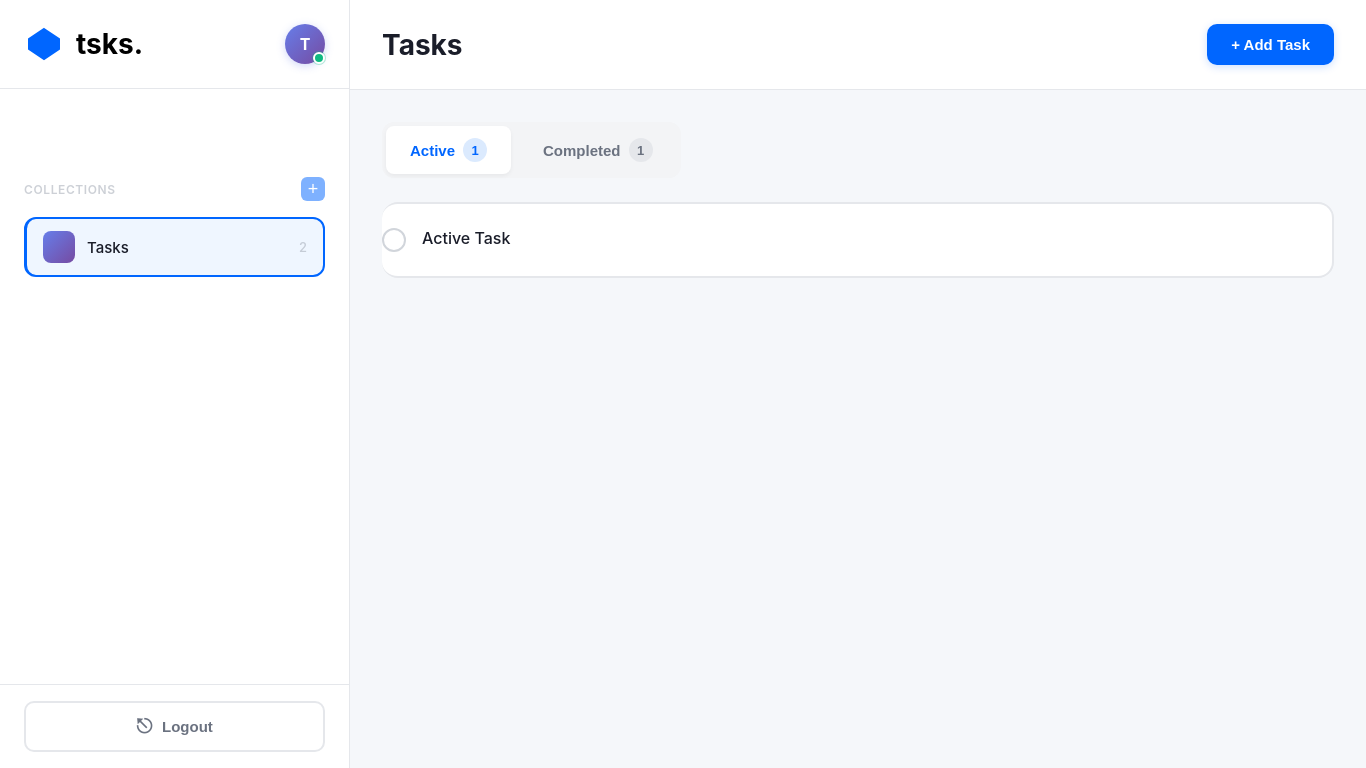
Test: Dashboard Component › should filter tasks by active/completed status
Expected: the text "Active Task" is shown, [422,228,510,248]
Expected: the text "Completed Task" is not shown
Note: Click on Completed tab
Click the button "Completed 1" at (598, 150), box [519,126,676,174]
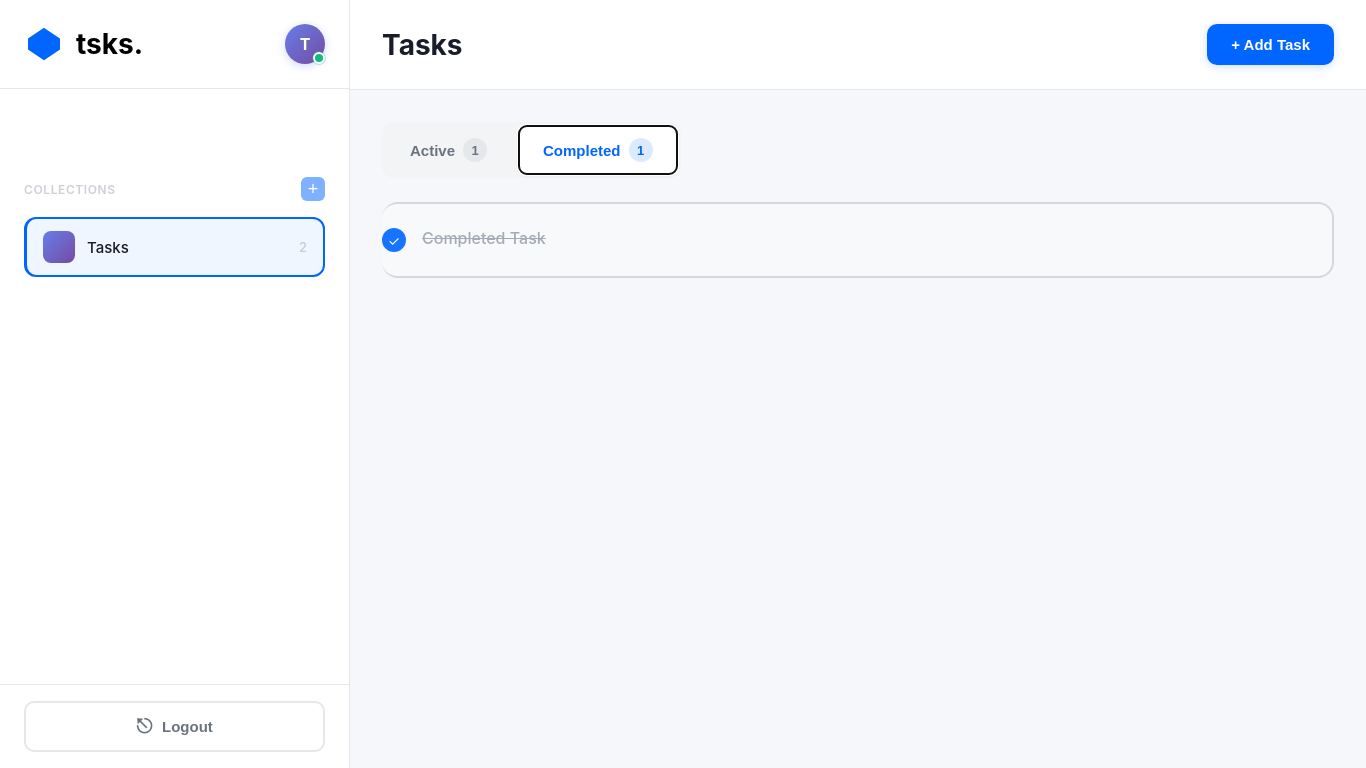
Now the text "Completed Task" is shown, box [422,228,546,248]
Now the text "Active Task" is gone
